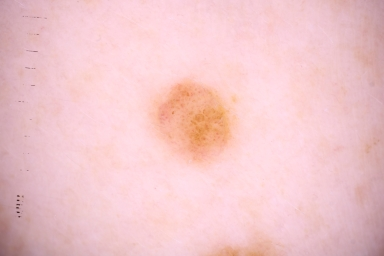nevus: (157, 79, 231, 168)
